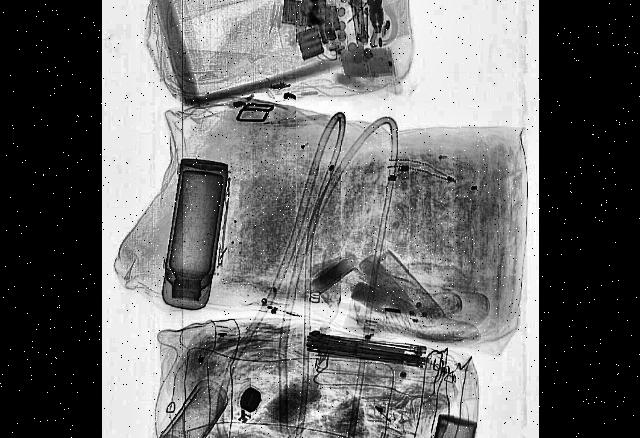Pliers: (352, 0, 388, 36)
